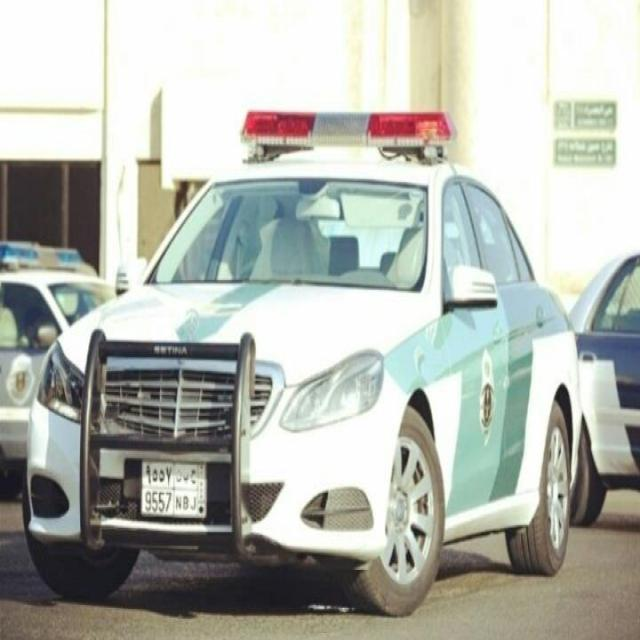license_plate: (140, 458, 208, 521)
